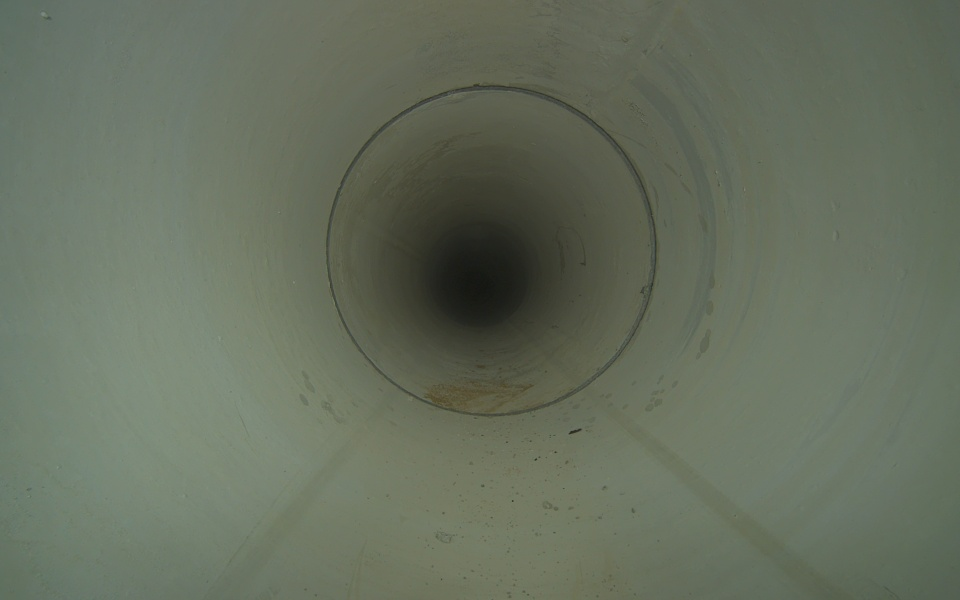circle1: (324, 83, 659, 419)
circle2: (455, 263, 499, 310)
